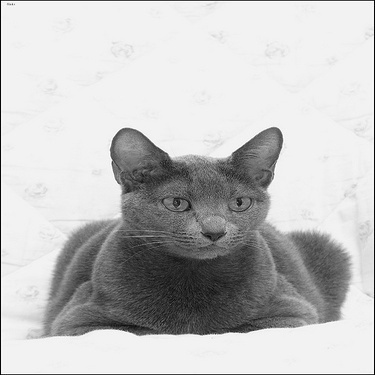cat: (47, 126, 348, 342)
